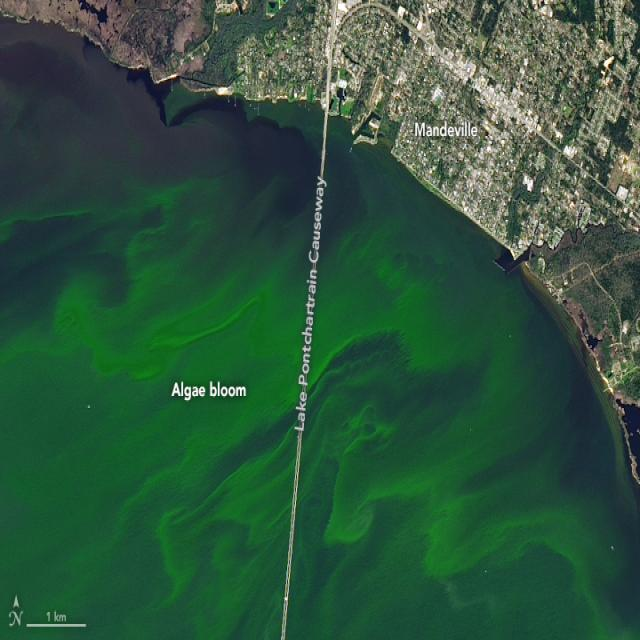algal: (0, 24, 320, 638), (288, 120, 639, 638)
